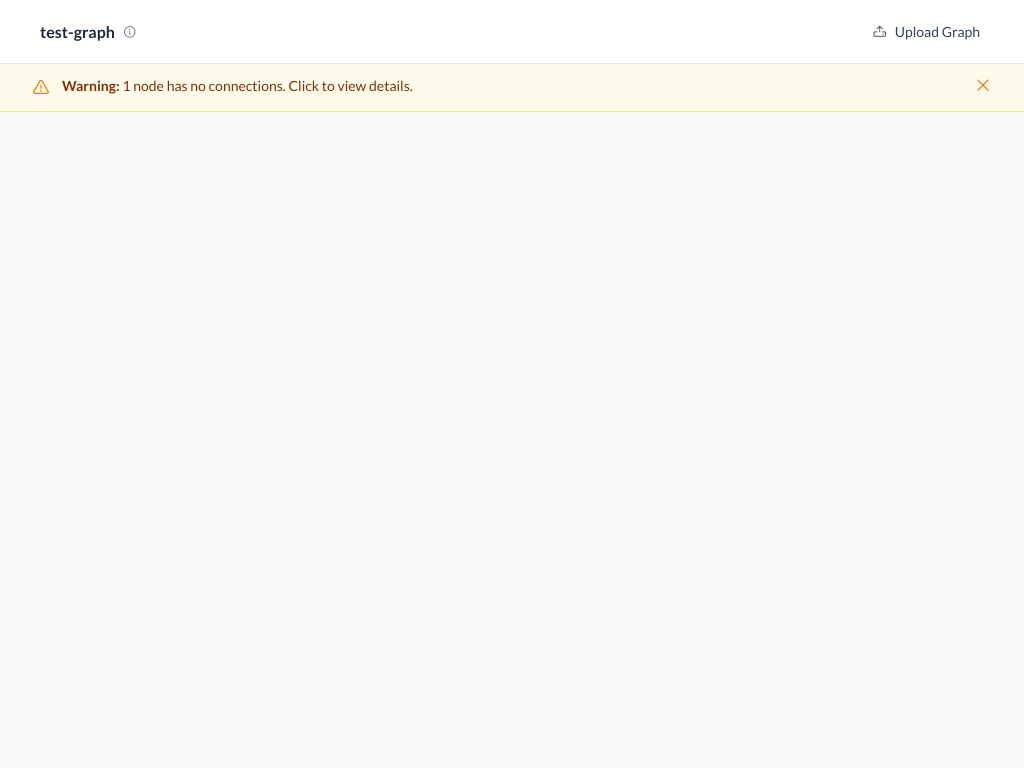
it: Header › schema modal trigger › closes modal when close button clicked
Click the button "test-graph" at [88, 32], box [32,16,145,48]
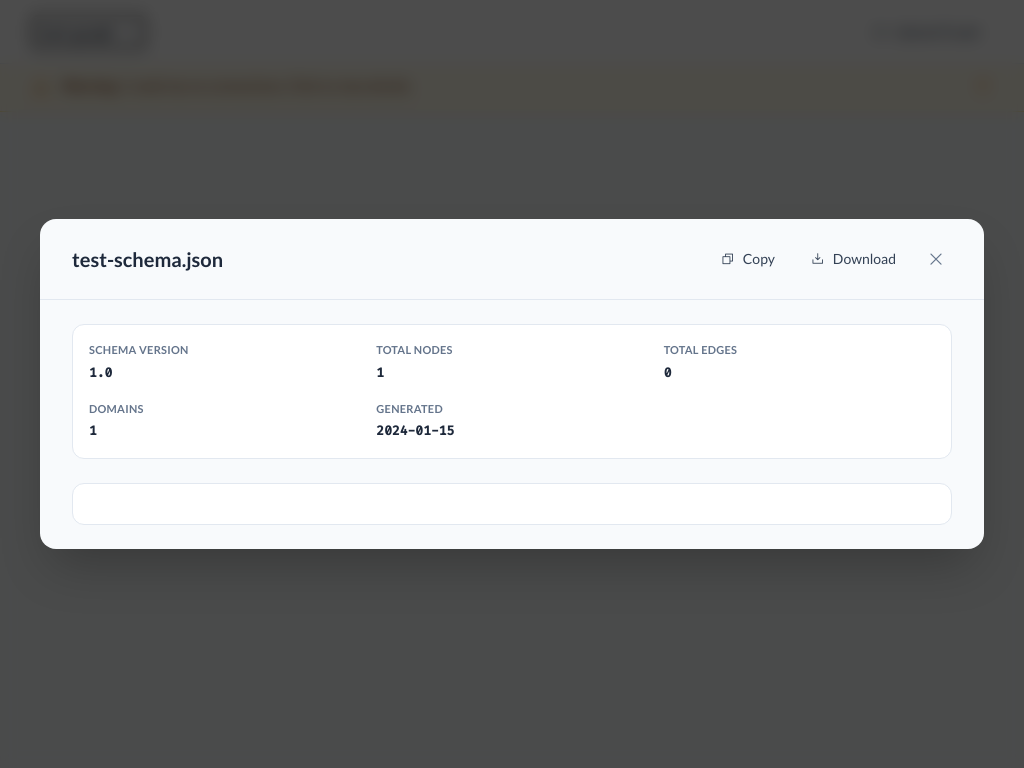
Result: the dialog is shown
Click the button named "Close" at [936, 259], box [920,243,952,275]
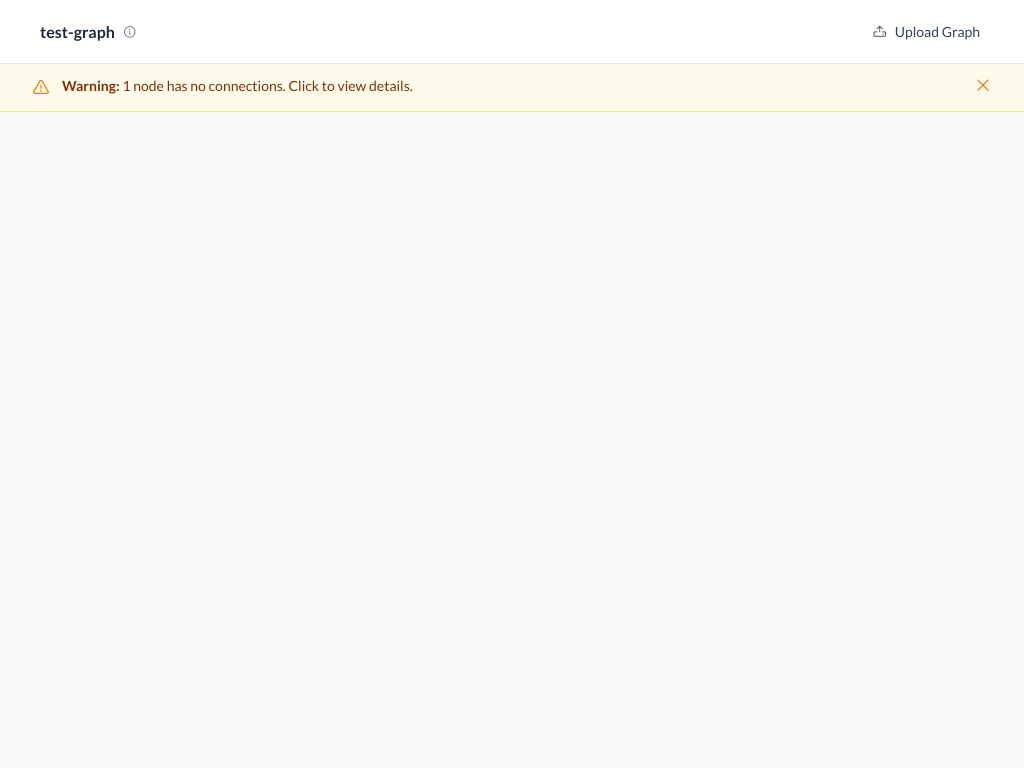
Result: the dialog is gone
